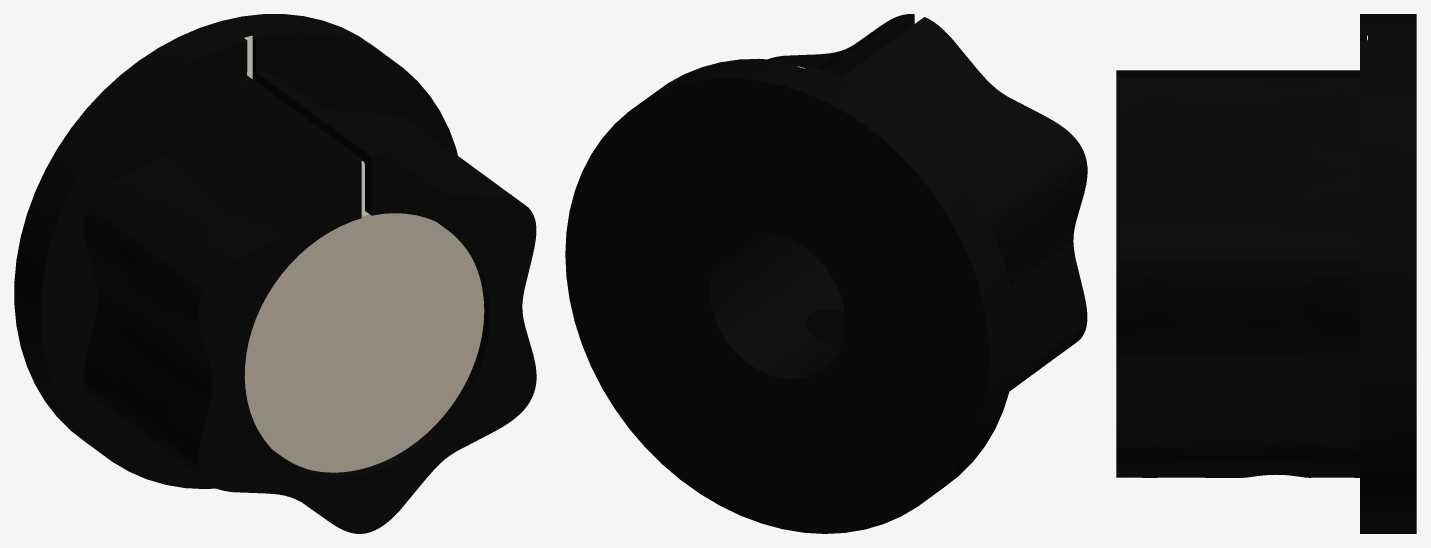
The model's file is .davies-1100.step.glb.
The picture shows the model from 3 angles, left to right: view 1: azimuth 30°, elevation 25°; view 2: azimuth 150°, elevation 25°; view 3: azimuth 270°, elevation 25°; orthographic projection. The views are drawn at different scales.
Visible parts, largest first — view 1: o1.1, o1.2; view 2: o1.1; view 3: o1.1.
Part boxes in pixels (x1=…): o1.1: x1=14, y1=14, x2=536, y2=533; o1.2: x1=244, y1=211, x2=484, y2=472; o1.1: x1=565, y1=14, x2=1087, y2=533; o1.1: x1=1116, y1=14, x2=1416, y2=533.
Bounding box in the file's own units: 0.0198 × 0.0198 × 0.0114.
